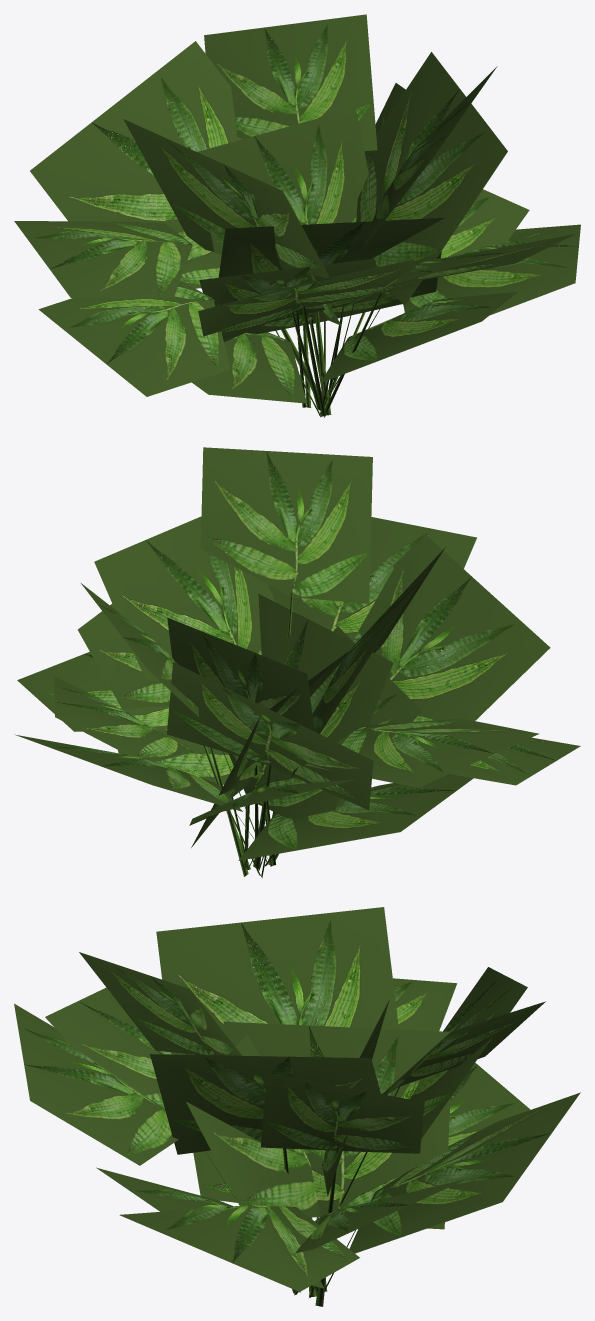
The model's file is MK4_Trop_Plant9b.DAE.
3 renders of one model, top to bottom at view 1: azimuth 30°, elevation 25°; view 2: azimuth 150°, elevation 25°; view 3: azimuth 270°, elevation 25°, orthographic. The views are drawn at different scales.
Visible parts, largest first — view 1: MK4_Trop_Plant9b; view 2: MK4_Trop_Plant9b; view 3: MK4_Trop_Plant9b.
Boxes of the visible parts, box(x1,y1,x2,y2) form: MK4_Trop_Plant9b: box(14, 14, 580, 417); MK4_Trop_Plant9b: box(15, 447, 580, 877); MK4_Trop_Plant9b: box(14, 907, 580, 1306).
Size of the model in its own units: 2.18 by 2.01 by 1.45.
